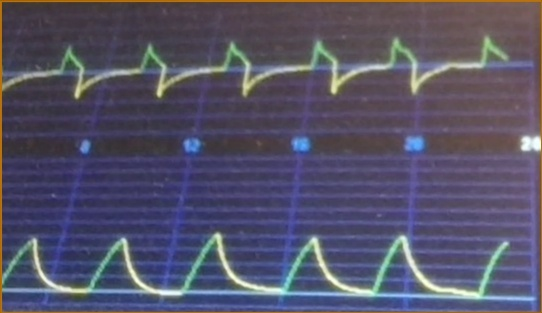Normal Flow: (2, 20, 511, 118)
Normal Volume: (3, 223, 530, 303)
